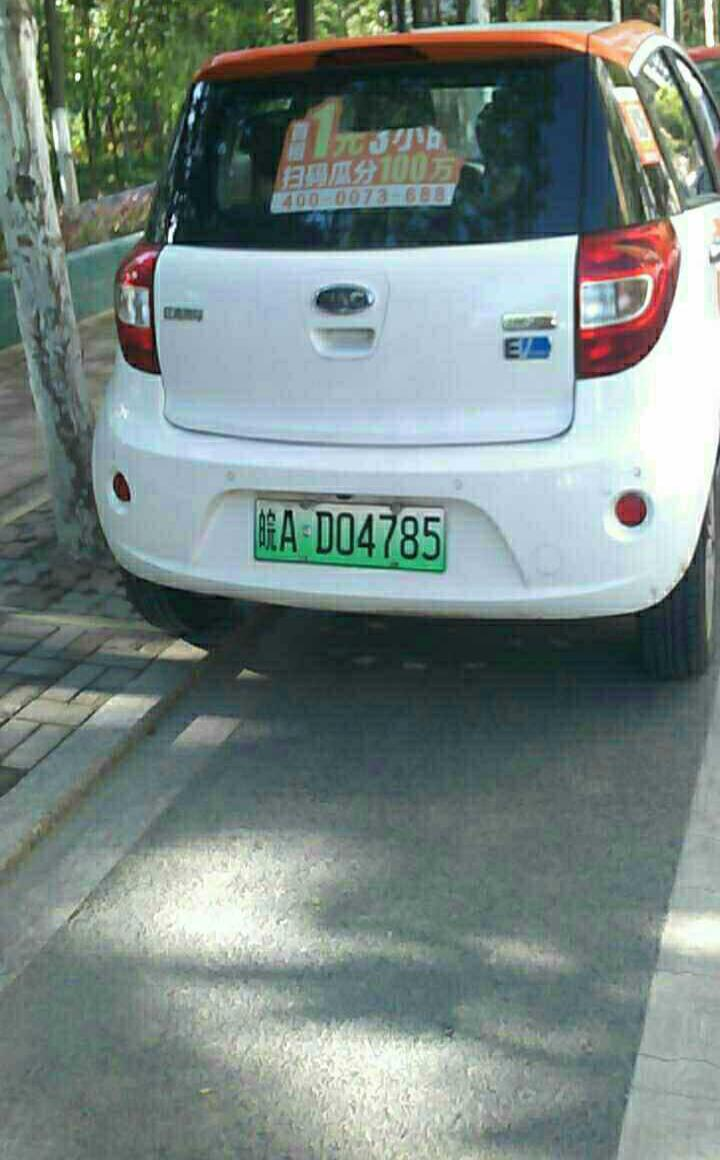car: (237, 485, 459, 572)
